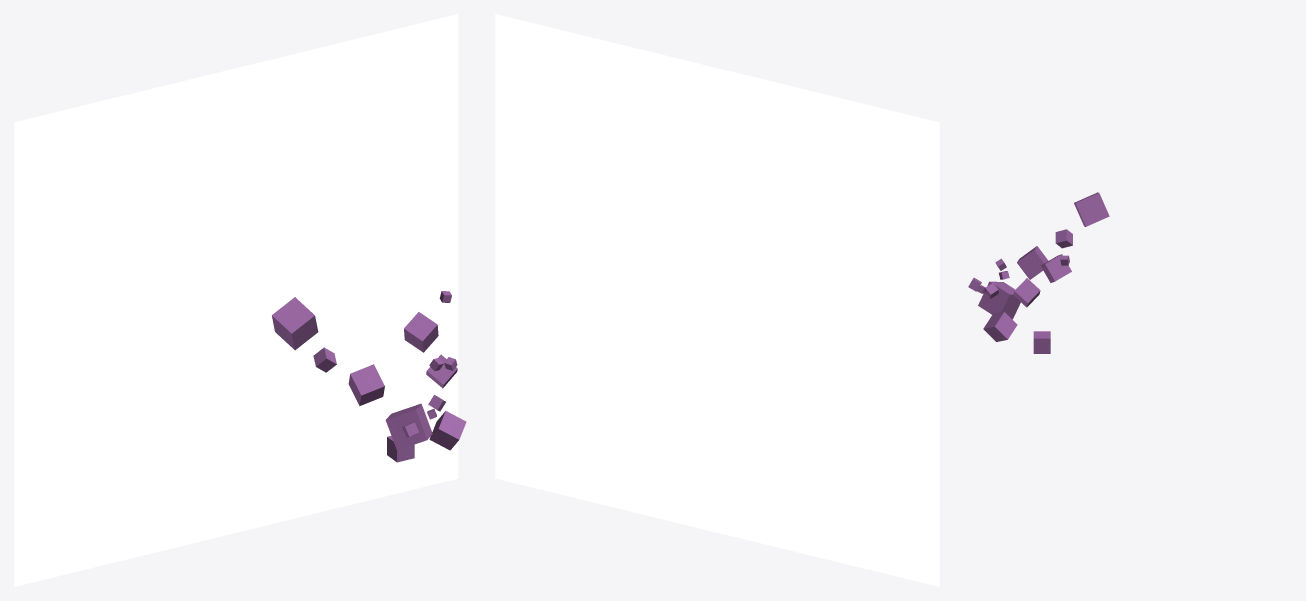
3 renders of one model, left to right at view 1: azimuth 30°, elevation 25°; view 2: azimuth 150°, elevation 25°; view 3: azimuth 270°, elevation 25°, orthographic. The views are drawn at different scales.
Visible parts, largest first — view 1: Plane, Cube.007, Cube, Cube.005, Cube.004, Cube.001; view 2: Plane; view 3: Cube, Cube.007, Cube.001, Cube.005, Cube.004, Cube.003.
Part boxes in pixels (x1,y1,x2,y2): Plane: [14, 14, 458, 586]; Cube.007: [272, 297, 318, 350]; Cube: [385, 403, 432, 450]; Cube.005: [348, 364, 384, 405]; Cube.004: [404, 312, 438, 352]; Cube.001: [429, 411, 466, 450]; Plane: [495, 14, 939, 586]; Cube: [978, 281, 1020, 319]; Cube.007: [1074, 192, 1109, 226]; Cube.001: [983, 311, 1017, 341]; Cube.005: [1017, 246, 1048, 279]; Cube.004: [1041, 254, 1071, 282]; Cube.003: [1013, 278, 1040, 307].
Size of the model in its own units: 31.28 by 31.28 by 23.49.
2 materials, 1 textured.
